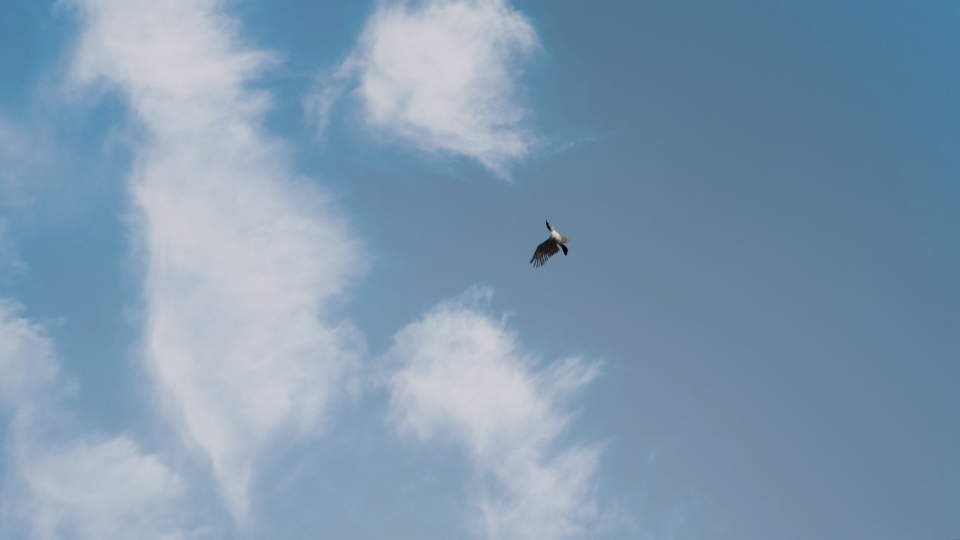bird: (531, 215, 573, 265)
